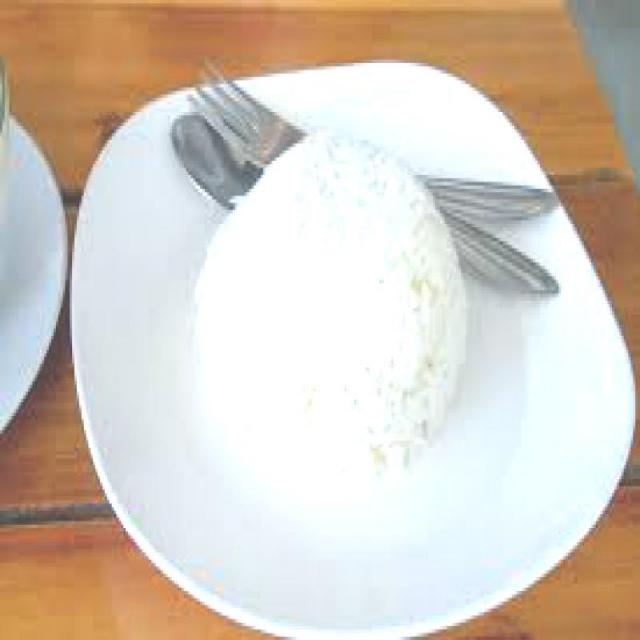rice: (201, 129, 468, 486)
